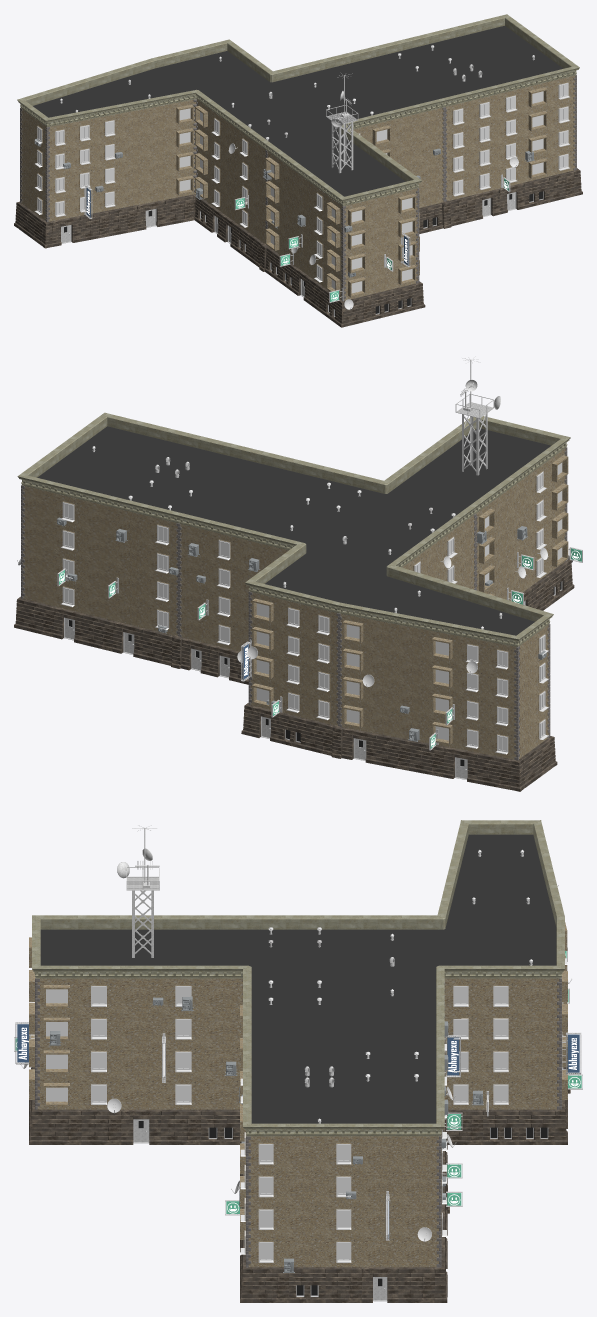
The model's file is building3-draco.glb.
3 renders of one model, top to bottom at view 1: azimuth 30°, elevation 25°; view 2: azimuth 150°, elevation 25°; view 3: azimuth 270°, elevation 25°, orthographic. The views are drawn at different scales.
Visible parts, largest first — view 1: Plane_0; view 2: Plane_0; view 3: Plane_0.
Boxes of the visible parts, left/top/right/bottom form: Plane_0: left=14, top=14, right=582, bottom=327; Plane_0: left=14, top=356, right=582, bottom=791; Plane_0: left=14, top=820, right=582, bottom=1302.
Bounding box in the file's own units: 61.92 × 26.68 × 47.26.
13 materials, 5 textured.
